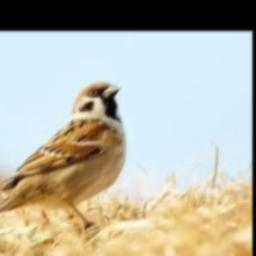Sparrow: (0, 83, 125, 229)
